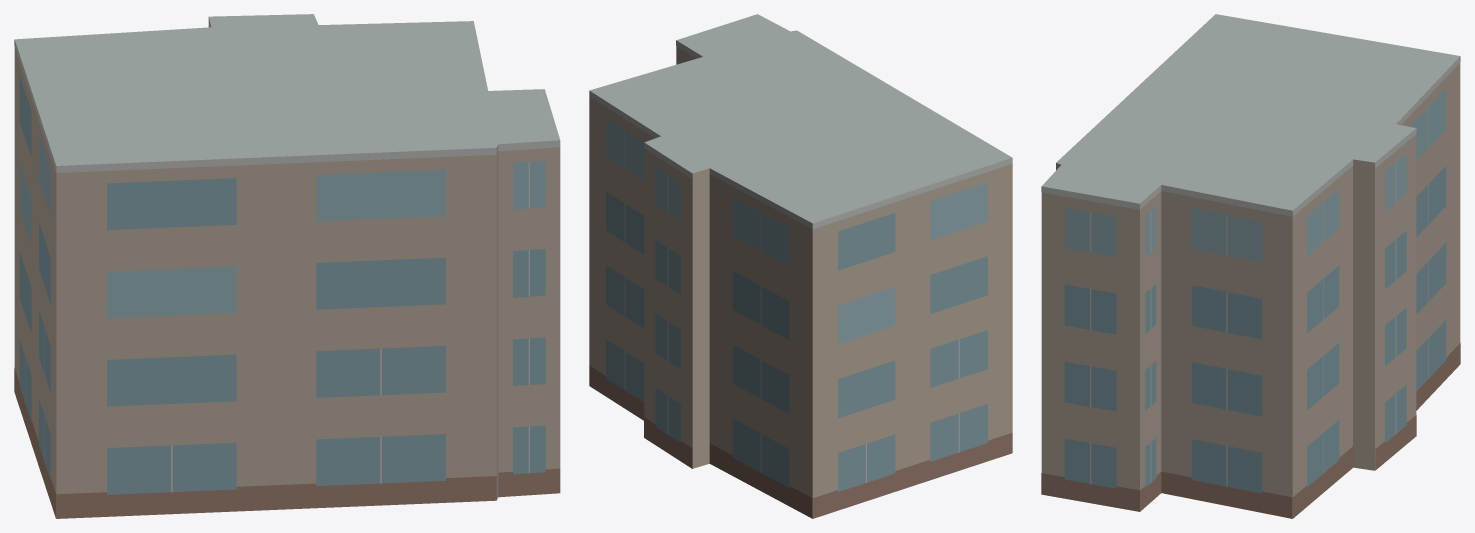
Rendered from survey-upis-32490079.glb.
3 views of the same model, side by side, from view 1: azimuth 30°, elevation 25°; view 2: azimuth 150°, elevation 25°; view 3: azimuth 270°, elevation 25° (orthographic). The views are drawn at different scales.
Parts seen in each view (by area): view 1: survey-upis-32490079.tmp; view 2: survey-upis-32490079.tmp; view 3: survey-upis-32490079.tmp.
Part boxes in pixels (x1,y1,x2,y2): survey-upis-32490079.tmp: (14, 14, 560, 518); survey-upis-32490079.tmp: (589, 14, 1012, 518); survey-upis-32490079.tmp: (1041, 14, 1460, 518).
Size of the model in its own units: 16.85 by 12.3 by 15.17.
